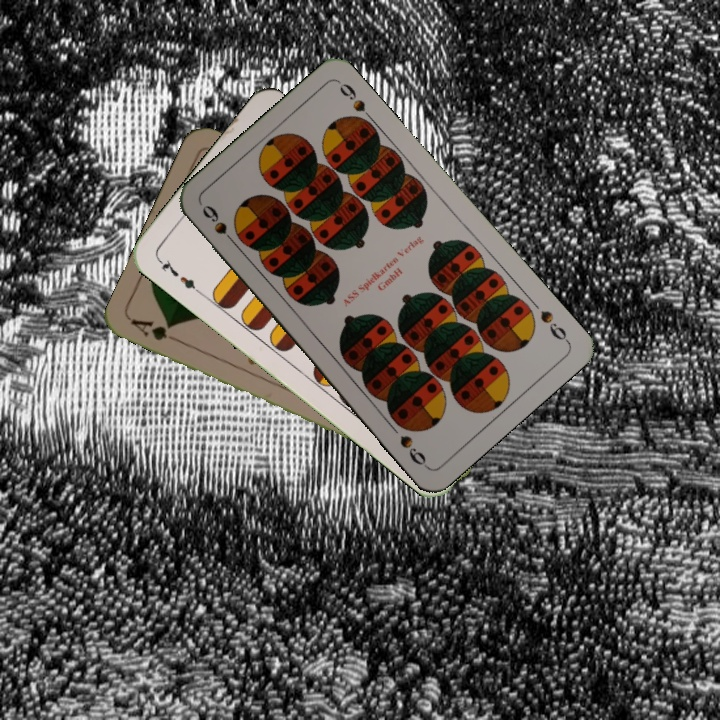E7: (153, 254, 203, 297)
GA: (126, 315, 183, 345)
S9: (198, 201, 241, 250), (536, 306, 572, 346)
